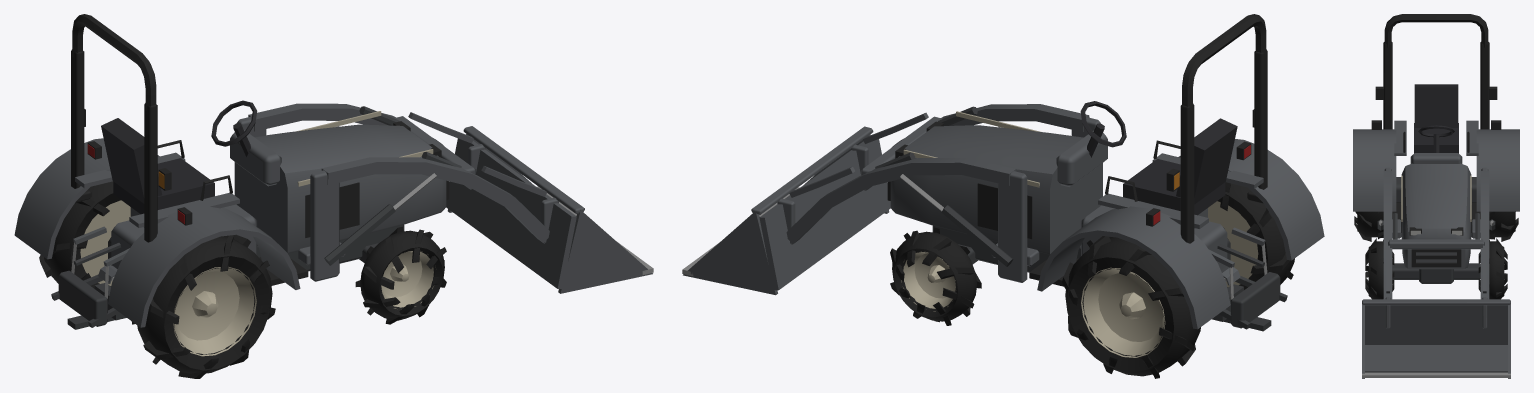
Rendered from SM_Prop_farm_tractor_compact_2_LOD1.glb.
The picture shows the model from 3 angles, left to right: view 1: azimuth 30°, elevation 25°; view 2: azimuth 150°, elevation 25°; view 3: azimuth 270°, elevation 25°; orthographic projection. The views are drawn at different scales.
Parts seen in each view (by area): view 1: SM_Prop_farm_tractor_compact_2_LOD1; view 2: SM_Prop_farm_tractor_compact_2_LOD1; view 3: SM_Prop_farm_tractor_compact_2_LOD1.
Part boxes in pixels (<box>): SM_Prop_farm_tractor_compact_2_LOD1: <box>14,14,653,378</box>; SM_Prop_farm_tractor_compact_2_LOD1: <box>682,14,1324,378</box>; SM_Prop_farm_tractor_compact_2_LOD1: <box>1353,14,1519,378</box>.
Size of the model in its own units: 3.9 by 2.23 by 1.62.
